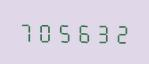five: (56, 19, 74, 43)
seven: (17, 19, 35, 43)
six: (75, 20, 93, 44)
three: (94, 20, 112, 44)
two: (113, 20, 131, 44)
zero: (36, 19, 54, 43)
